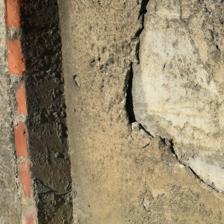Crack: (59, 2, 161, 194)
